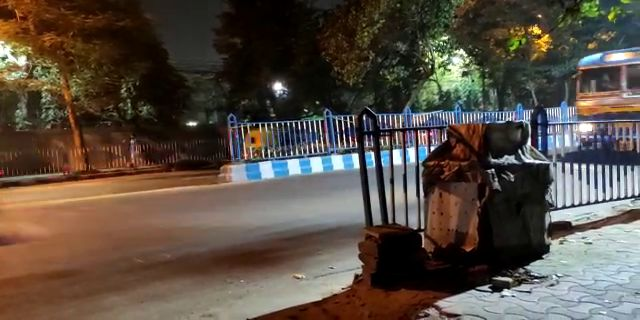Bus: (572, 51, 640, 152)
